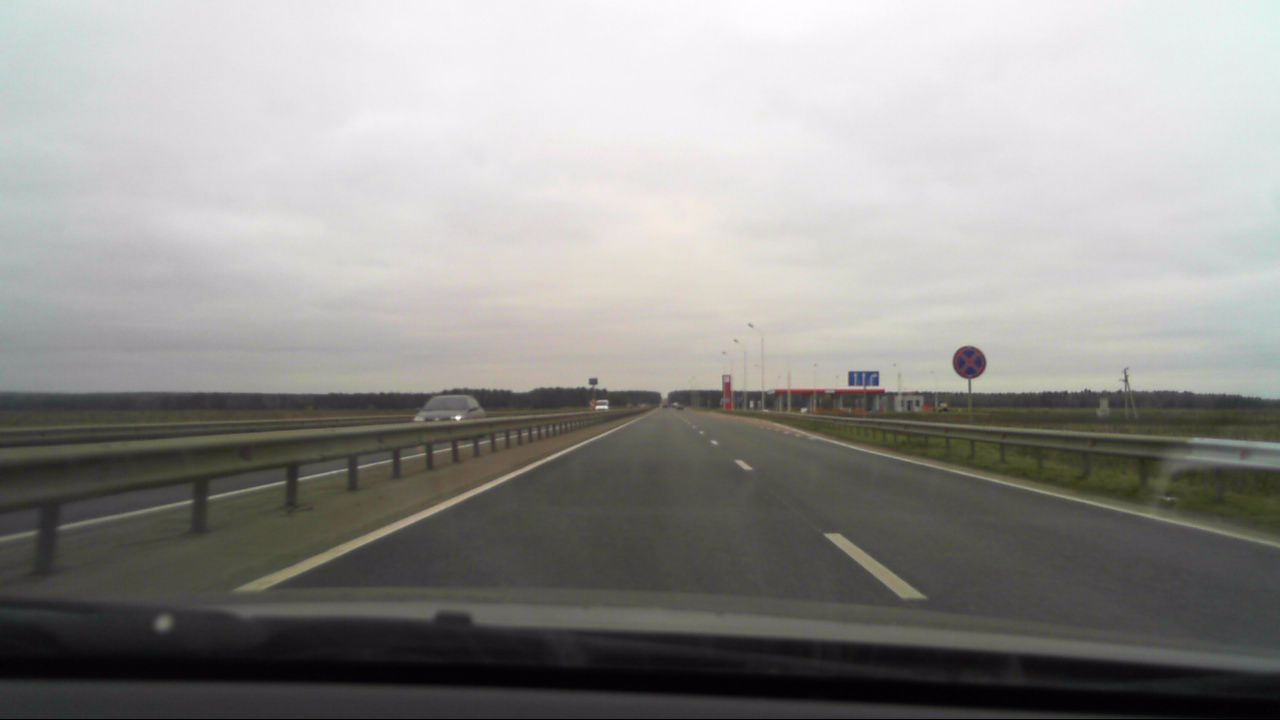No Parking: (952, 346, 988, 381)
